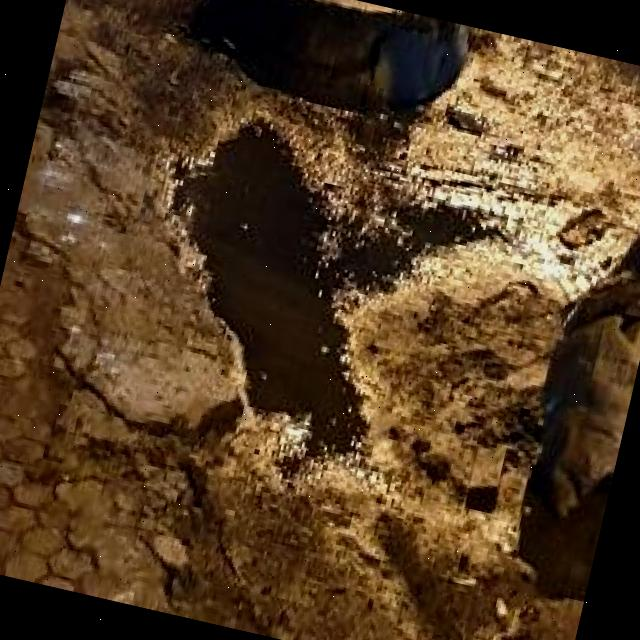waterlogging: (116, 106, 512, 496)
